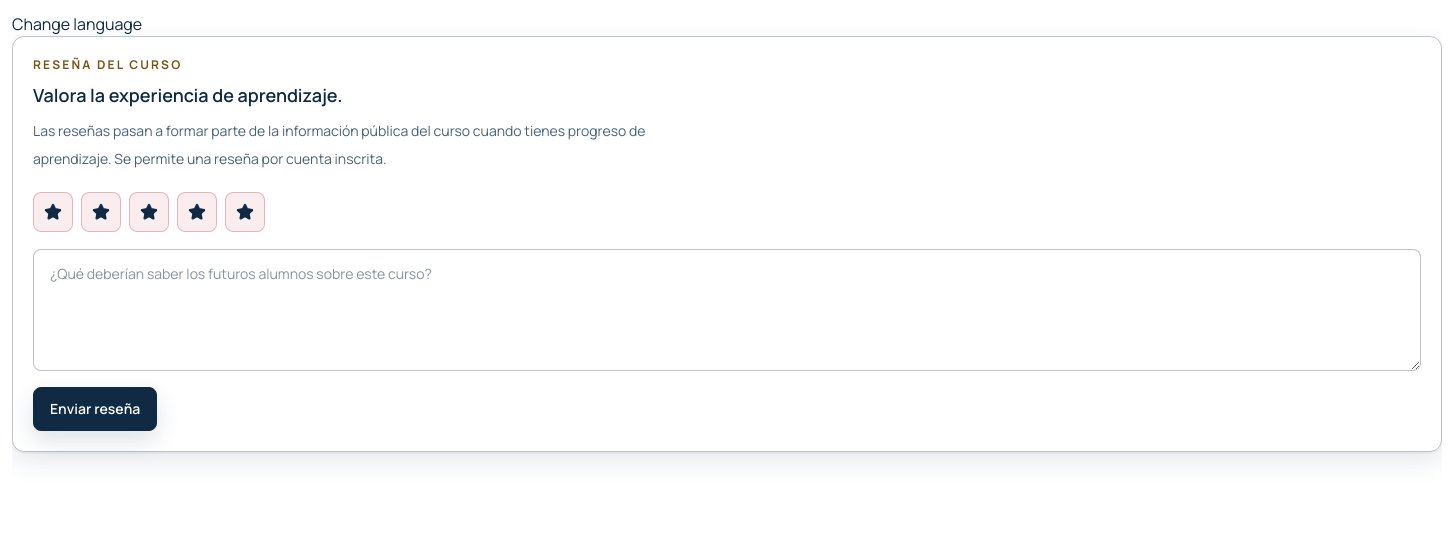
Test: CourseReviewPanel locale and state › localizes a rejected submission without losing its cause or exposing internals: Enroll in this course before leaving a review.
Type "Draft $$ $&" into the text box.
click(727, 310); type("Draft $$ $&")  # box [33,249,1421,371]
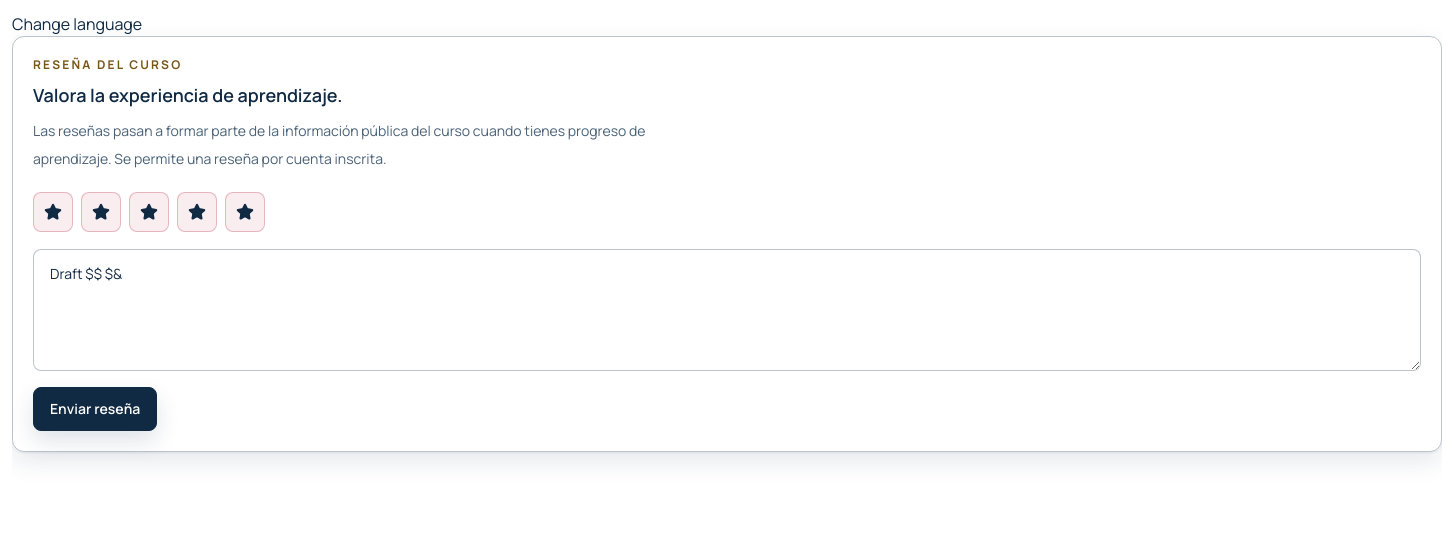
Click the button "Enviar reseña".
click(95, 409)  # box [33,387,157,431]
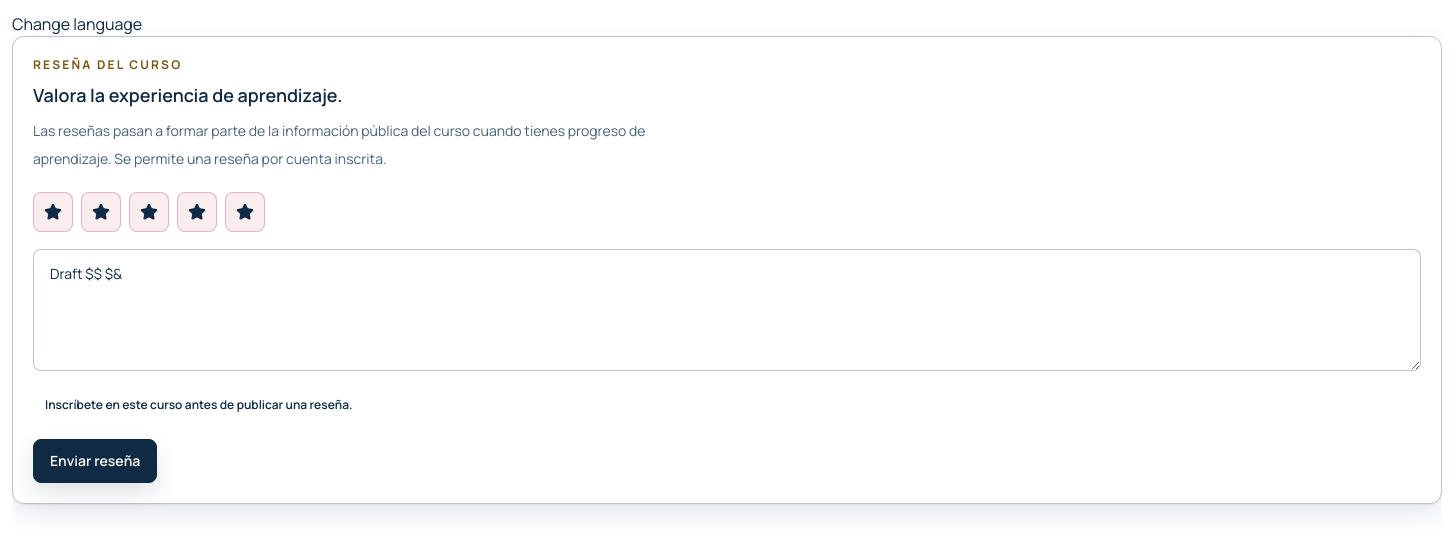
Now the text "Inscríbete en este curso antes de publicar una reseña." is shown, box [33,387,1421,423]
